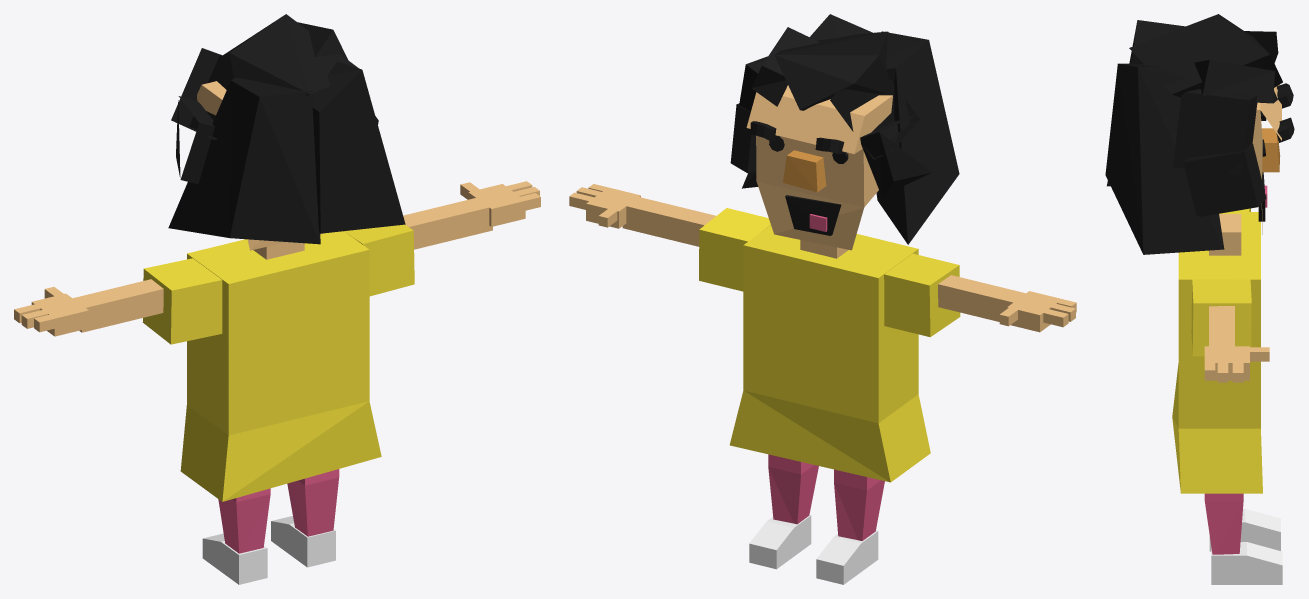
Rendered from scene_JrZZeOXkOQ.glb.
3 views of the same model, side by side, from view 1: azimuth 30°, elevation 25°; view 2: azimuth 150°, elevation 25°; view 3: azimuth 270°, elevation 25° (orthographic). The views are drawn at different scales.
Parts seen in each view (by area): view 1: group1208803365, group1274754596, group1663469940, group1667447251, group420517985, group1893552627, group2125683766, group1273824154, group1762948060, group521507475, group1683843925, group271445007 (+6 smaller); view 2: group1208803365, group923808113, group1274754596, group1667447251, group420517985, group1893552627, group521507475, group2125683766, group1762948060, group33531134, group1273824154, group1088811877 (+10 smaller); view 3: group1208803365, group1663469940, group1667447251, group1376386520, group1127638939, group1893552627, group1088811877, group474594239, group1762948060, group271445007, group143803454, group2125683766 (+7 smaller).
Part boxes in pixels (left/top/right/bottom): group1208803365: left=180, top=231, right=381, bottom=501; group1274754596: left=168, top=77, right=320, bottom=244; group1663469940: left=312, top=61, right=405, bottom=233; group1667447251: left=220, top=14, right=358, bottom=95; group420517985: left=142, top=258, right=222, bottom=344; group1893552627: left=344, top=224, right=414, bottom=296; group2125683766: left=403, top=198, right=492, bottom=249; group1273824154: left=73, top=279, right=163, bottom=332; group1762948060: left=287, top=469, right=339, bottom=536; group521507475: left=218, top=488, right=270, bottom=553; group1683843925: left=14, top=287, right=88, bottom=336; group271445007: left=460, top=181, right=540, bottom=226; group1208803365: left=729, top=225, right=930, bottom=482; group923808113: left=746, top=85, right=892, bottom=250; group1274754596: left=876, top=31, right=959, bottom=244; group1667447251: left=774, top=31, right=888, bottom=110; group420517985: left=884, top=253, right=960, bottom=337; group1893552627: left=699, top=208, right=770, bottom=291; group521507475: left=834, top=469, right=884, bottom=540; group2125683766: left=622, top=196, right=715, bottom=246; group1762948060: left=768, top=454, right=818, bottom=524; group33531134: left=860, top=114, right=931, bottom=195; group1273824154: left=938, top=275, right=1025, bottom=321; group1088811877: left=749, top=515, right=811, bottom=569; group1208803365: left=1172, top=212, right=1262, bottom=493; group1663469940: left=1105, top=63, right=1224, bottom=254; group1667447251: left=1129, top=14, right=1282, bottom=97; group1376386520: left=1173, top=89, right=1257, bottom=175; group1127638939: left=1183, top=143, right=1266, bottom=216; group1893552627: left=1191, top=279, right=1251, bottom=356; group1088811877: left=1211, top=542, right=1282, bottom=584; group474594239: left=1194, top=59, right=1277, bottom=103; group1762948060: left=1204, top=493, right=1243, bottom=554; group271445007: left=1204, top=346, right=1269, bottom=382; group143803454: left=1209, top=508, right=1280, bottom=551; group2125683766: left=1209, top=306, right=1234, bottom=348.
Size of the model in its own units: 2.7 by 2.67 by 0.8742.
